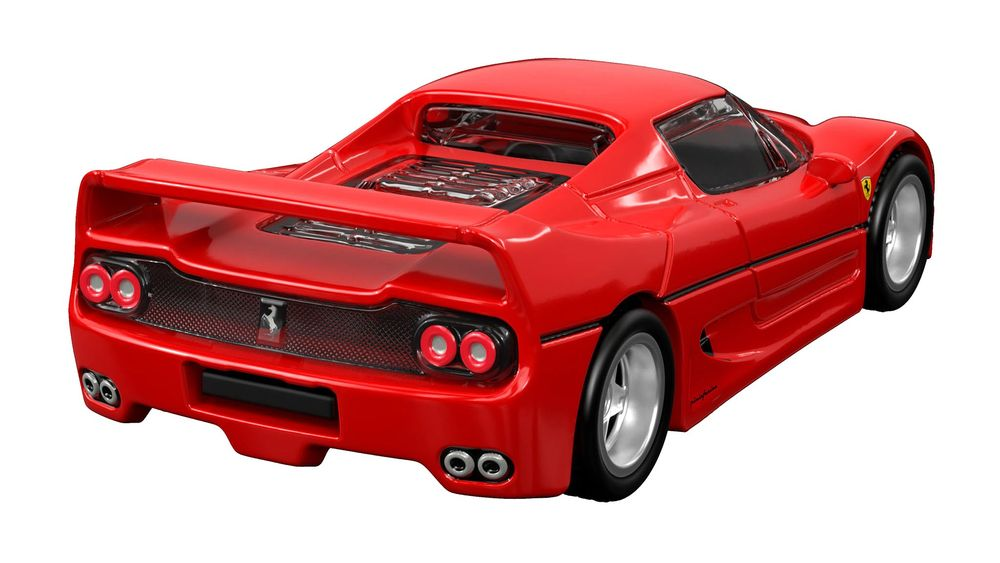Car: (67, 59, 933, 503)
